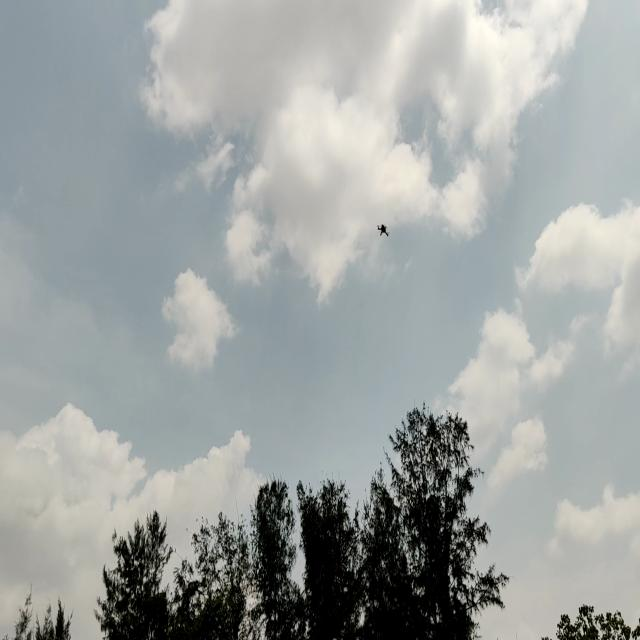drone: (375, 224, 392, 247)
